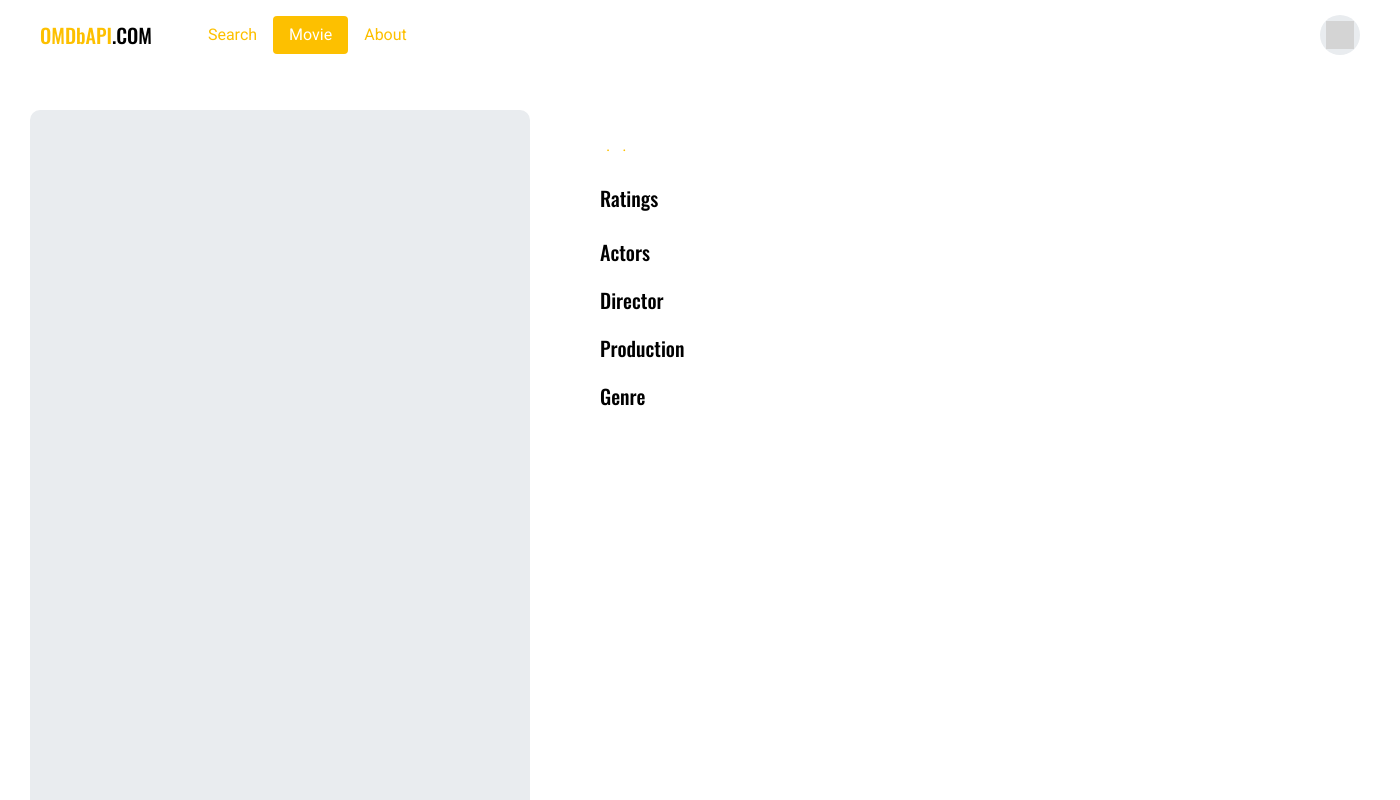
Test: About 페이지로 이동 › About 페이지로 이동합니다.
This screenshot has width=1400, height=800.
Click the element with class "user" at point(1340, 35), box x1=1320 y1=15 x2=1360 y2=55
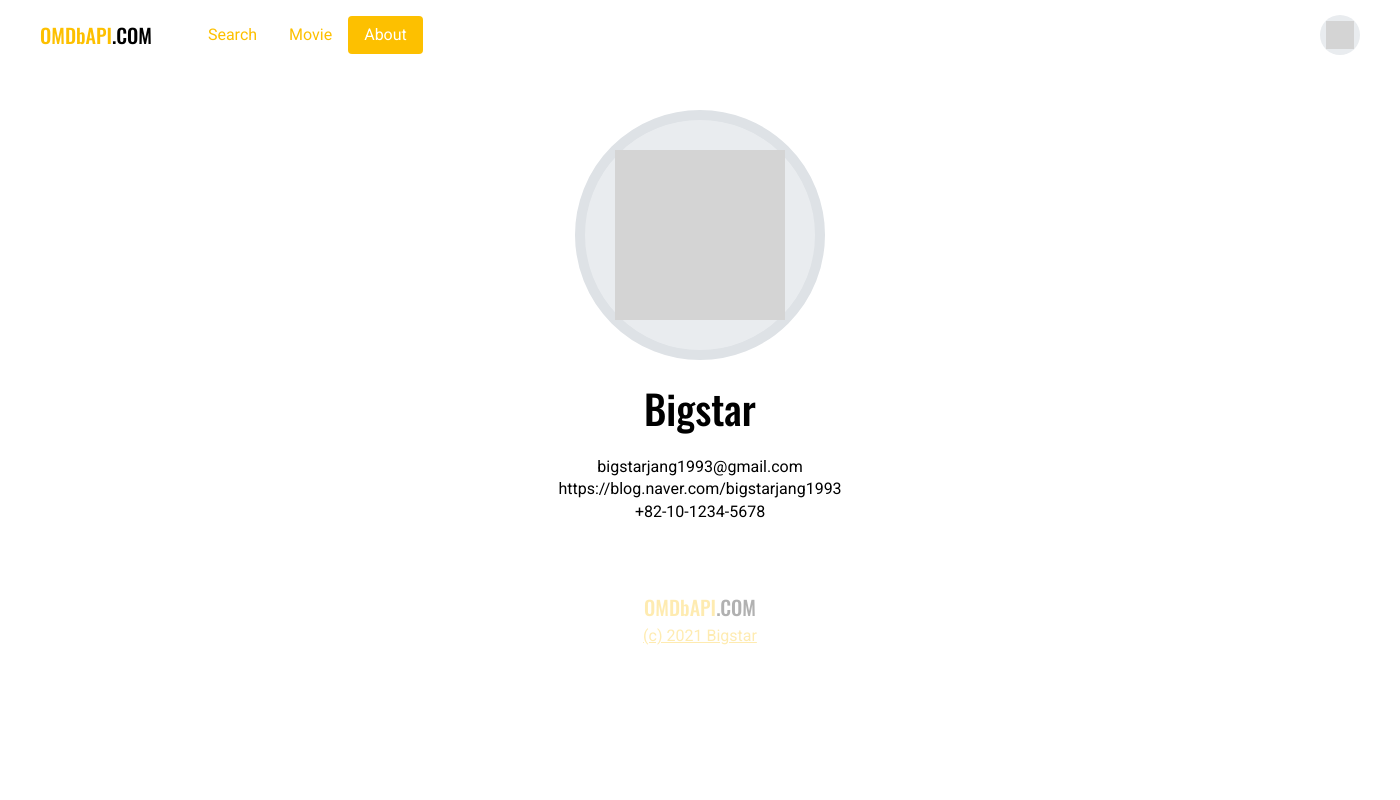
Expected: the link "About" is shown, x1=348 y1=16 x2=423 y2=54
Expected: the text "Bigstar" is shown, x1=644 y1=378 x2=756 y2=438
